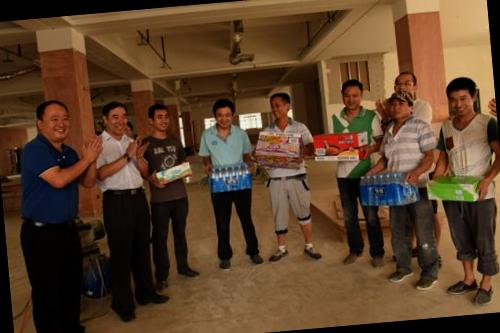no_helmet: (31, 94, 74, 146), (442, 72, 481, 124), (382, 88, 415, 124), (98, 100, 130, 136), (336, 77, 368, 112), (209, 95, 239, 132), (266, 88, 296, 123), (145, 98, 174, 134), (392, 68, 420, 99)
